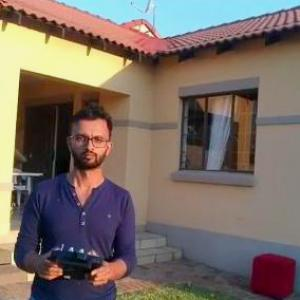follow: (9, 100, 140, 299)
